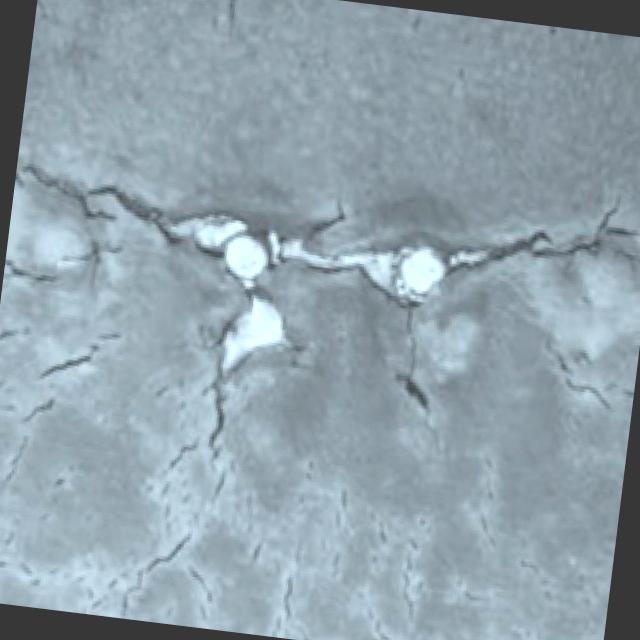crack: (442, 164, 619, 288), (51, 150, 163, 237), (172, 394, 242, 511), (380, 322, 442, 423), (28, 314, 116, 384)
